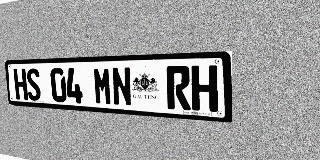0: (50, 68, 67, 103)
4: (65, 68, 83, 104)
H: (191, 65, 218, 112), (13, 69, 28, 100)
M: (93, 67, 113, 105)
N: (111, 67, 132, 107)
R: (166, 66, 191, 110)
S: (26, 68, 41, 101)
